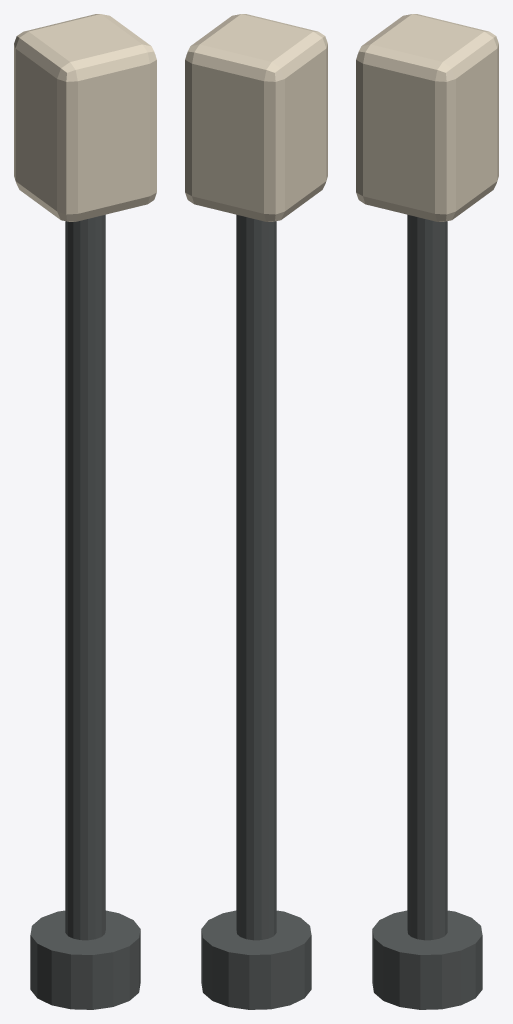
Rendered from StreetLamp_01.fbx.
3 views of the same model, side by side, from view 1: azimuth 30°, elevation 25°; view 2: azimuth 150°, elevation 25°; view 3: azimuth 330°, elevation 25° (orthographic).
Parts seen in each view (by area): view 1: Pole, Lantern, Base.002; view 2: Pole, Lantern, Base.002; view 3: Pole, Lantern, Base.002.
Part boxes in pixels (left/top/right/bottom): Pole: left=65, top=214, right=105, bottom=940; Lantern: left=14, top=14, right=156, bottom=221; Base.002: left=30, top=910, right=140, bottom=1009; Pole: left=236, top=214, right=276, bottom=940; Lantern: left=185, top=14, right=327, bottom=221; Base.002: left=201, top=910, right=311, bottom=1009; Pole: left=407, top=214, right=447, bottom=940; Lantern: left=356, top=14, right=498, bottom=221; Base.002: left=372, top=910, right=482, bottom=1009.
Size of the model in its own units: 0.45 by 4.15 by 0.45.
